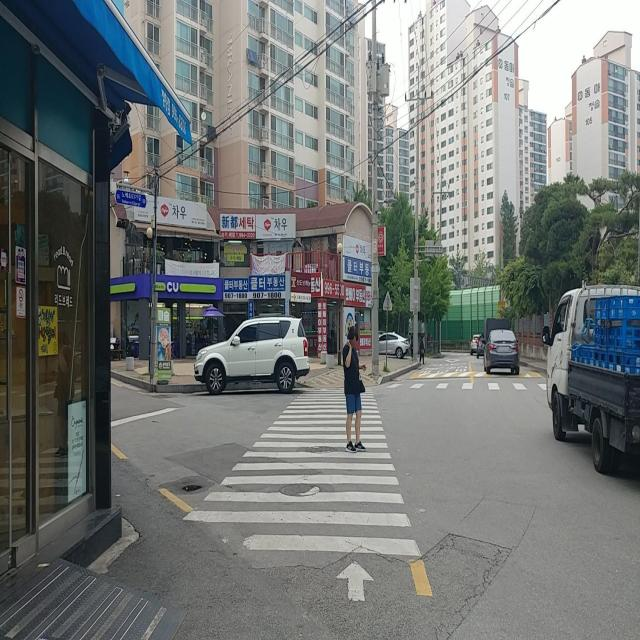횡단보도: (181, 384, 422, 606)
